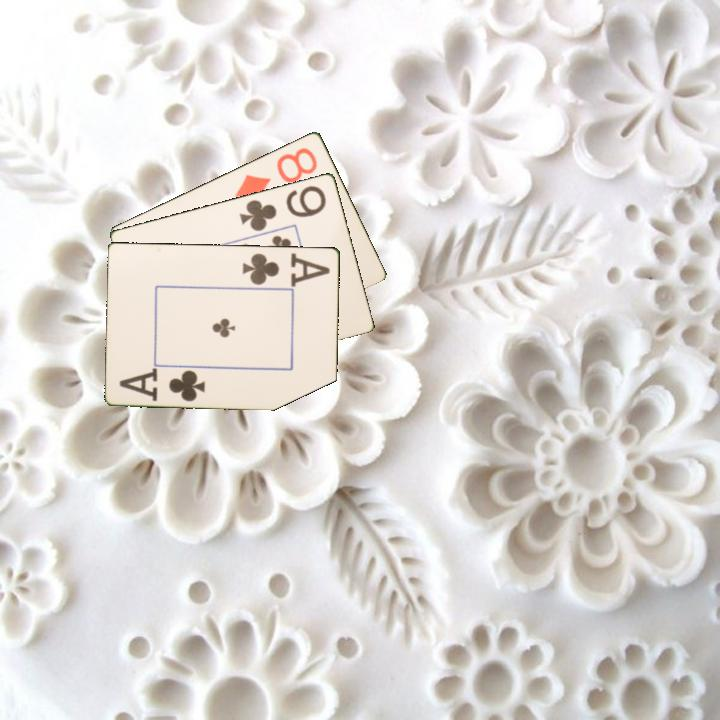8d: (231, 144, 320, 203)
9c: (236, 182, 329, 234)
Ac: (239, 249, 333, 288), (116, 365, 208, 404)
